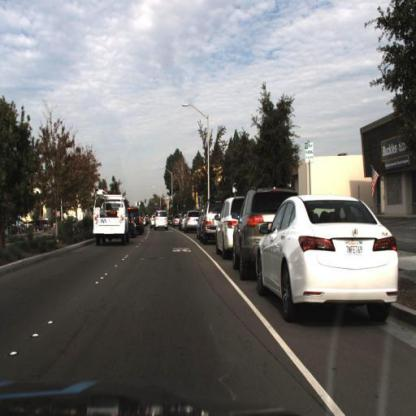car: (256, 189, 404, 344), (230, 186, 261, 294), (90, 193, 130, 251), (214, 193, 242, 263), (213, 189, 238, 266), (198, 198, 221, 249), (198, 200, 224, 245), (182, 210, 201, 238), (151, 209, 172, 234), (185, 206, 200, 239), (133, 205, 145, 240), (128, 205, 138, 244)
